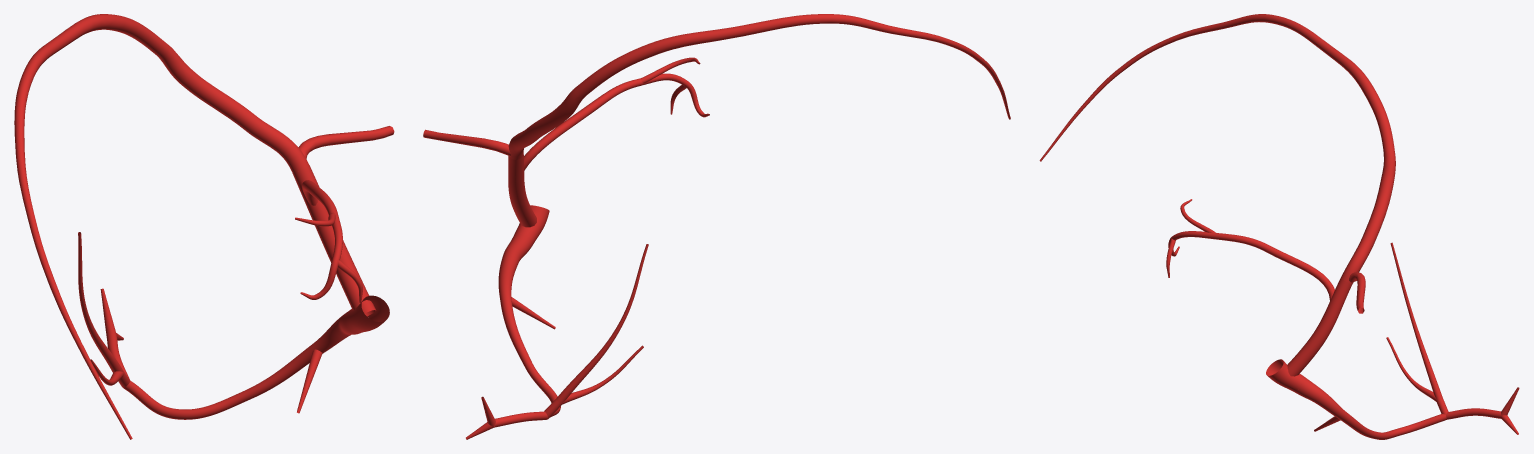
The model's file is circulatorio-posterior-division-of-internal-iliac-artery-r.glb.
3 views of the same model, side by side, from view 1: azimuth 30°, elevation 25°; view 2: azimuth 150°, elevation 25°; view 3: azimuth 270°, elevation 25° (orthographic). The views are drawn at different scales.
Parts seen in each view (by area): view 1: Iliacus branch of iliolumbar artery.r, Superior gluteal artery.r, Iliolumbar artery.r, Lumbar branch of iliolumbar artery.r, Spinal branch of iliolumbar artery.r, Posterior division of internal iliac artery.r; view 2: Iliacus branch of iliolumbar artery.r, Superior gluteal artery.r, Lumbar branch of iliolumbar artery.r, Iliolumbar artery.r, Spinal branch of iliolumbar artery.r; view 3: Iliacus branch of iliolumbar artery.r, Superior gluteal artery.r, Lumbar branch of iliolumbar artery.r, Iliolumbar artery.r, Posterior division of internal iliac artery.r.
Boxes of the visible parts, x1,y1,x2,y2 form: Iliacus branch of iliolumbar artery.r: (14, 14, 309, 439); Superior gluteal artery.r: (78, 232, 368, 419); Iliolumbar artery.r: (292, 165, 376, 316); Lumbar branch of iliolumbar artery.r: (295, 180, 362, 302); Spinal branch of iliolumbar artery.r: (298, 126, 394, 158); Posterior division of internal iliac artery.r: (345, 295, 389, 333); Iliacus branch of iliolumbar artery.r: (508, 14, 1010, 159); Superior gluteal artery.r: (466, 233, 648, 439); Lumbar branch of iliolumbar artery.r: (524, 57, 709, 170); Iliolumbar artery.r: (508, 154, 536, 227); Spinal branch of iliolumbar artery.r: (423, 129, 510, 156); Iliacus branch of iliolumbar artery.r: (1039, 14, 1395, 283); Superior gluteal artery.r: (1295, 242, 1519, 439); Lumbar branch of iliolumbar artery.r: (1166, 199, 1334, 300); Iliolumbar artery.r: (1287, 278, 1352, 376); Posterior division of internal iliac artery.r: (1266, 359, 1304, 392).
Size of the model in its own units: 0.1083 by 0.0955 by 0.1233.
